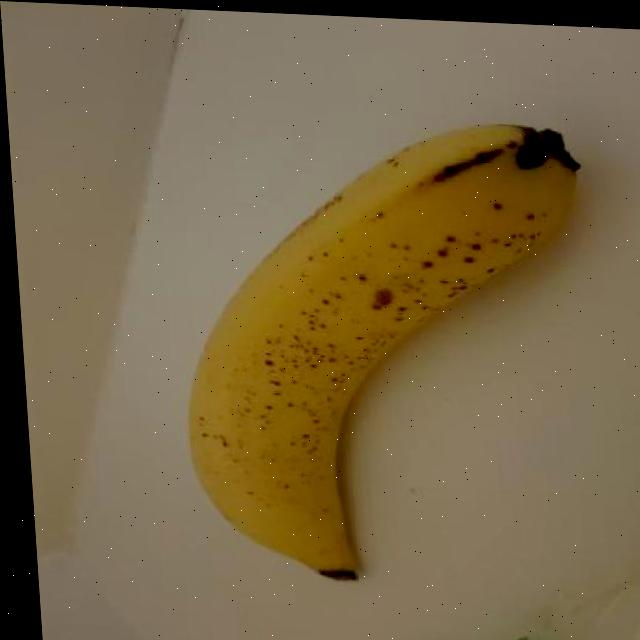banana: (159, 96, 613, 594)
